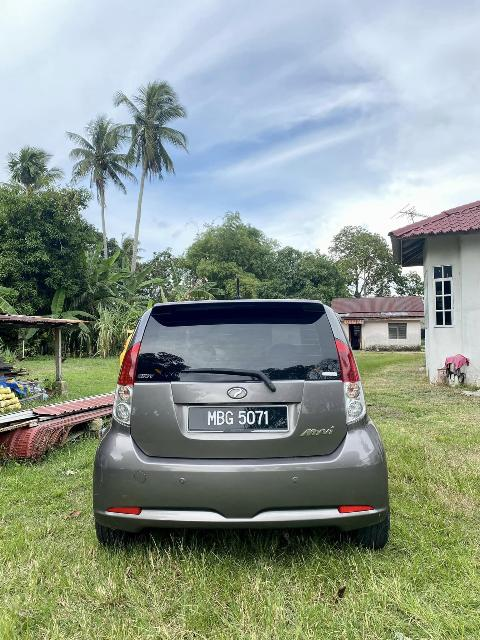License_Plate: (194, 408, 281, 438)
car: (89, 303, 393, 551)
